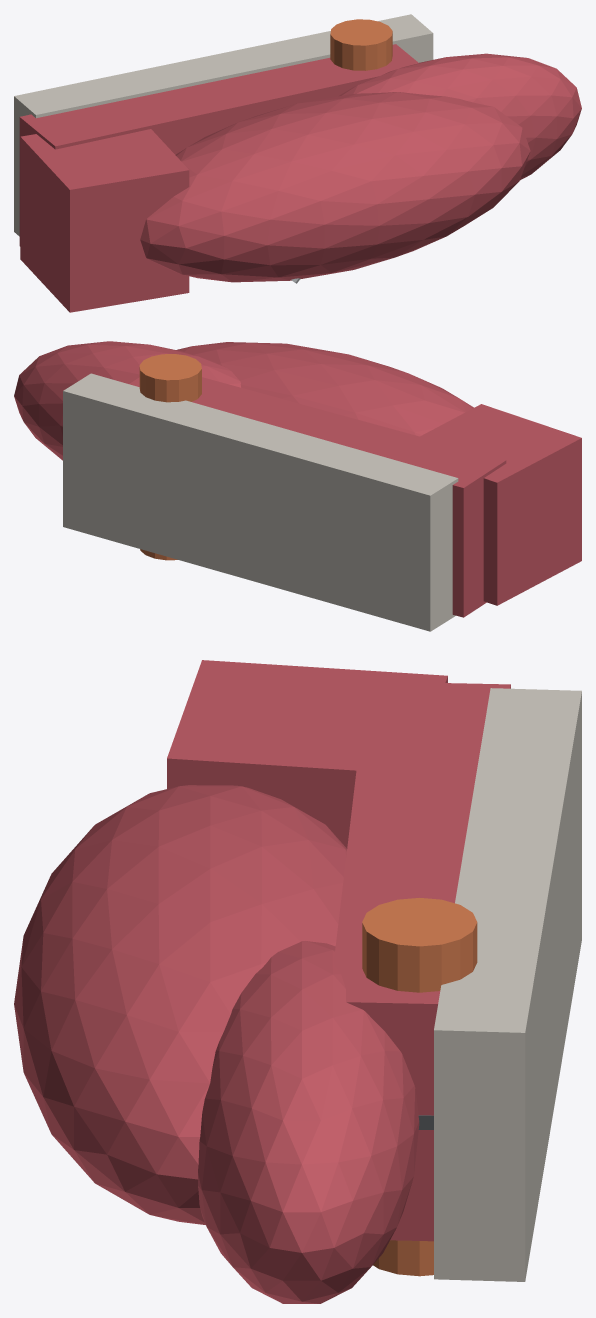
3 views of the same model, one above another, from view 1: azimuth 30°, elevation 25°; view 2: azimuth 150°, elevation 25°; view 3: azimuth 270°, elevation 25° (orthographic). The views are drawn at different scales.
Parts seen in each view (by area): view 1: geometry_0; view 2: geometry_0; view 3: geometry_0.
Part boxes in pixels (bbox=[...]): geometry_0: bbox=[14, 14, 581, 312]; geometry_0: bbox=[14, 341, 581, 631]; geometry_0: bbox=[14, 660, 581, 1303].
Bounding box in the file's own units: 0.4341 × 0.139 × 0.217.
